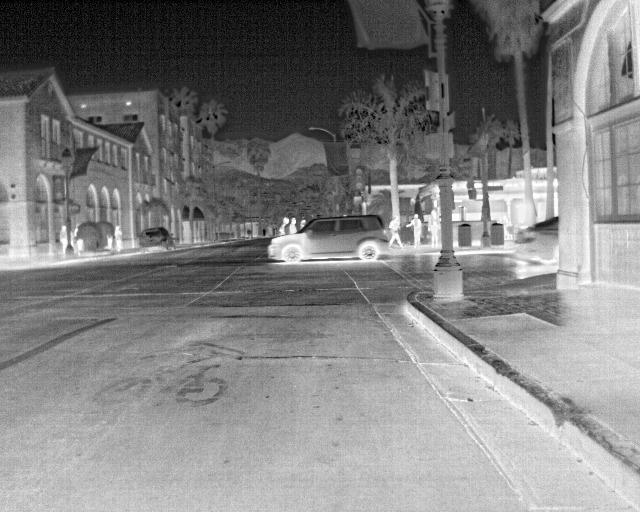bicycle: (264, 212, 391, 263), (512, 213, 558, 266), (138, 226, 175, 254)
empty: (406, 213, 424, 245), (386, 218, 405, 247), (56, 222, 71, 256), (428, 218, 441, 248), (112, 224, 124, 253), (276, 217, 289, 237), (287, 218, 299, 235)
